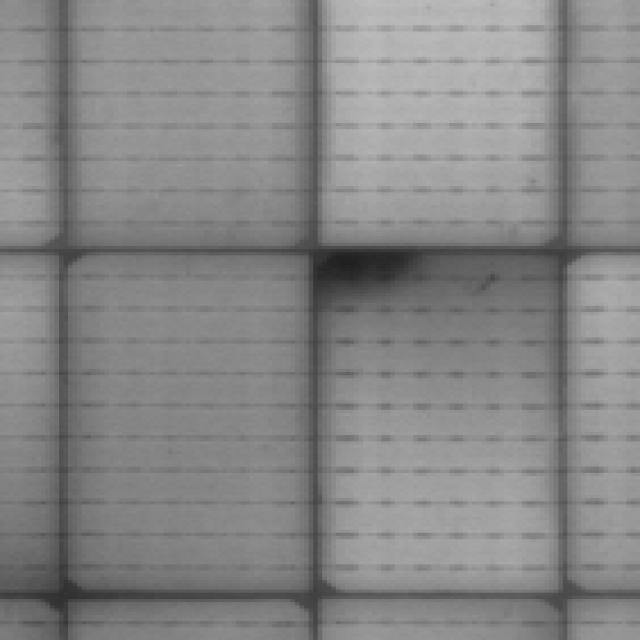BLACK SPOT: (308, 236, 437, 301)
